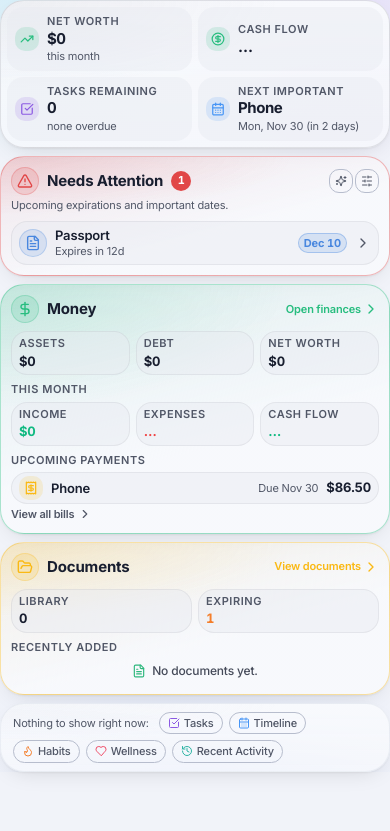
Test: ExecutiveBriefing › renders the overview bar, every card, and none of the old board
expect the element with test id "exec-overview" is shown: met, box [7,7,383,140]
expect the button with test id "exec-kpi-networth" is shown: met, box [7,7,192,71]
Click the button with test id "exec-quiet-habits": x=46, y=751 [13,740,80,762]
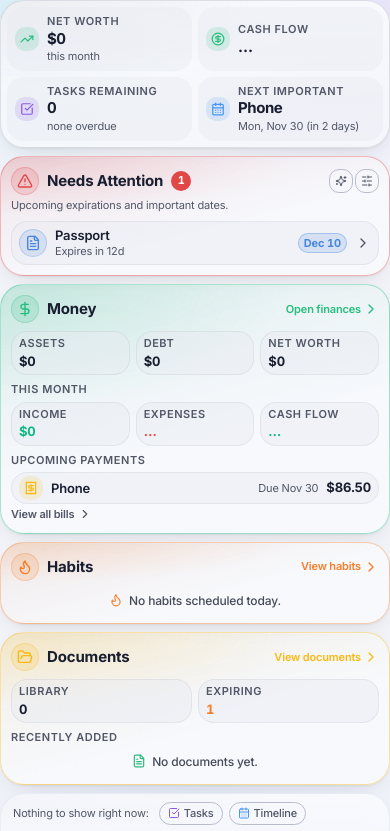
expect the element with test id "exec-card-habits" shows "No habits scheduled today.": met, box [129,592,281,608]
expect the button with test id "exec-quiet-habits" is gone: met
